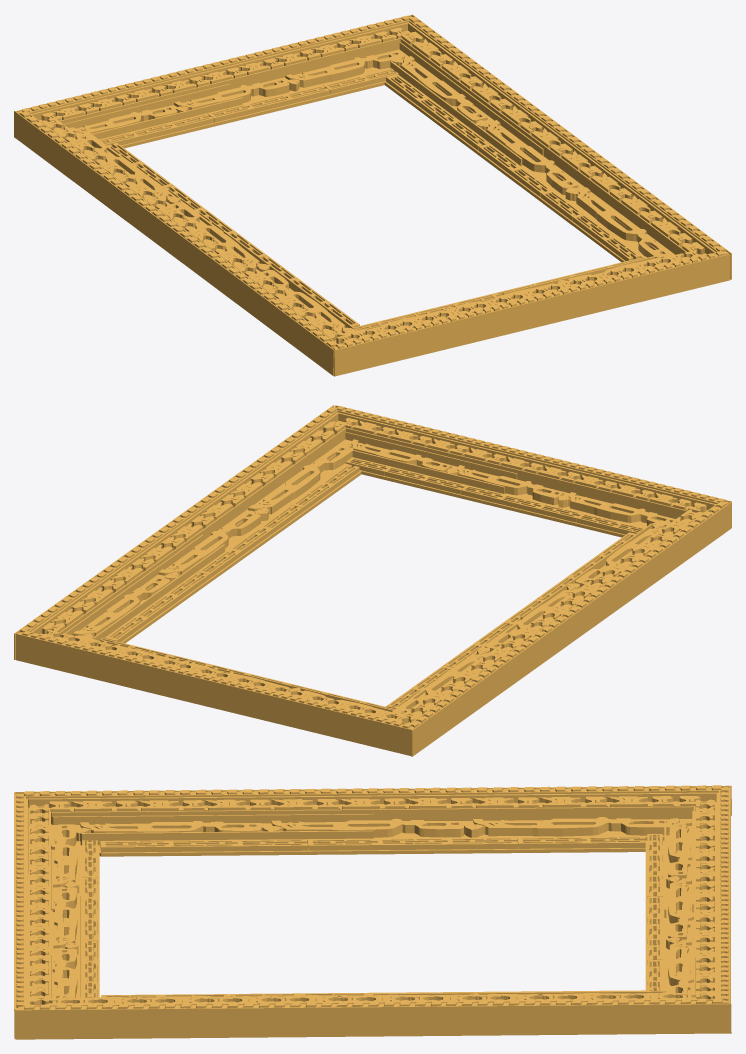
The model's file is frame.fbx.
3 views of the same model, one above another, from view 1: azimuth 30°, elevation 25°; view 2: azimuth 150°, elevation 25°; view 3: azimuth 270°, elevation 25° (orthographic). The views are drawn at different scales.
Parts seen in each view (by area): view 1: mona_lisa.026, mona_lisa.000, mona_lisa.001, mona_lisa.002; view 2: mona_lisa.026, mona_lisa.002, mona_lisa.001, mona_lisa.000; view 3: mona_lisa.001, mona_lisa.026, mona_lisa.002, mona_lisa.000.
Boxes of the visible parts, x1=… form: mona_lisa.026: x1=384, y1=14, x2=731, y2=279; mona_lisa.000: x1=16, y1=15, x2=411, y2=148; mona_lisa.001: x1=14, y1=111, x2=359, y2=375; mona_lisa.002: x1=332, y1=250, x2=730, y2=376; mona_lisa.026: x1=14, y1=405, x2=361, y2=659; mona_lisa.002: x1=335, y1=405, x2=731, y2=537; mona_lisa.001: x1=386, y1=502, x2=731, y2=756; mona_lisa.000: x1=16, y1=629, x2=411, y2=755; mona_lisa.001: x1=15, y1=785, x2=731, y2=856; mona_lisa.026: x1=15, y1=990, x2=731, y2=1039; mona_lisa.002: x1=14, y1=792, x2=99, y2=1038; mona_lisa.000: x1=645, y1=786, x2=730, y2=1003.
Size of the model in its own units: 135 by 11.11 by 188.
